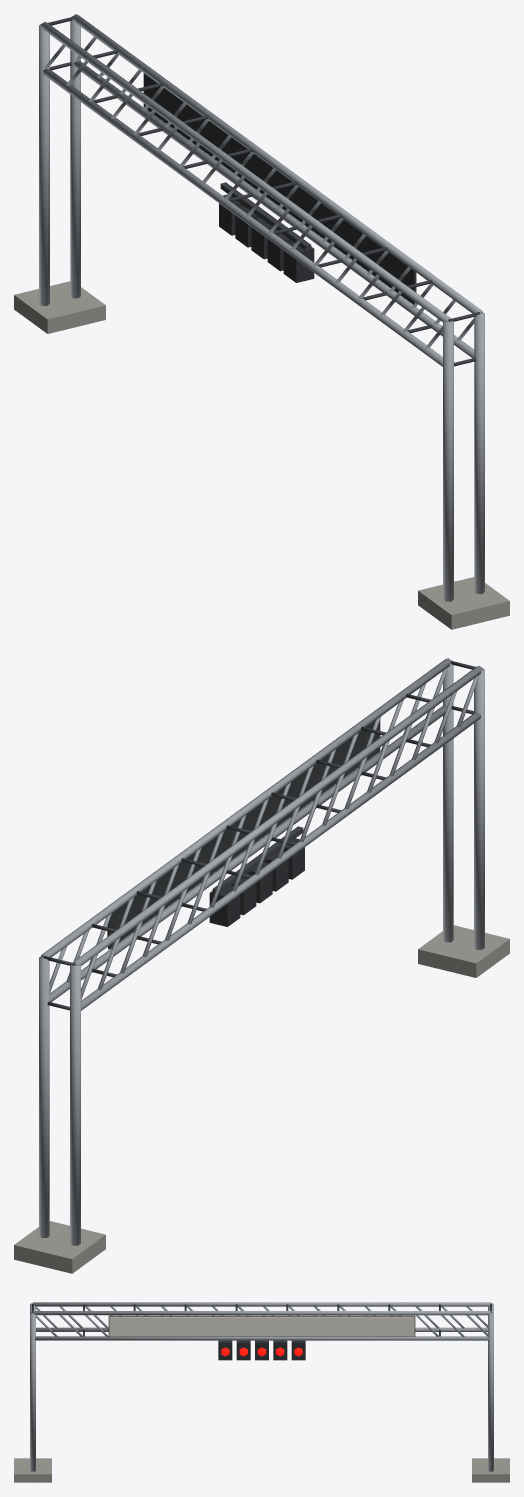
The model's file is start-gantry_far.glb.
The picture shows the model from 3 angles, top to bottom: view 1: azimuth 30°, elevation 25°; view 2: azimuth 150°, elevation 25°; view 3: azimuth 270°, elevation 25°; orthographic projection. The views are drawn at different scales.
Parts seen in each view (by area): view 1: galvanised, dark-steel, concrete, rubber; view 2: galvanised, dark-steel, concrete, rubber; view 3: galvanised, board-face, concrete, rubber, dark-steel.
Boxes of the visible parts, x1,y1,x2,y2 form: galvanised: (39, 14, 484, 601); dark-steel: (48, 17, 480, 366); concrete: (14, 281, 509, 629); rubber: (219, 194, 314, 282); galvanised: (39, 658, 484, 1245); dark-steel: (43, 661, 475, 1010); concrete: (14, 925, 509, 1273); rubber: (209, 838, 304, 926); galvanised: (30, 1302, 493, 1471); board-face: (109, 1316, 414, 1336); concrete: (14, 1458, 509, 1482); rubber: (218, 1340, 305, 1360); dark-steel: (32, 1303, 491, 1336).
Bounding box in the file's own units: 1.5 × 7.3 × 19.5.
6 materials, 4 textured.
